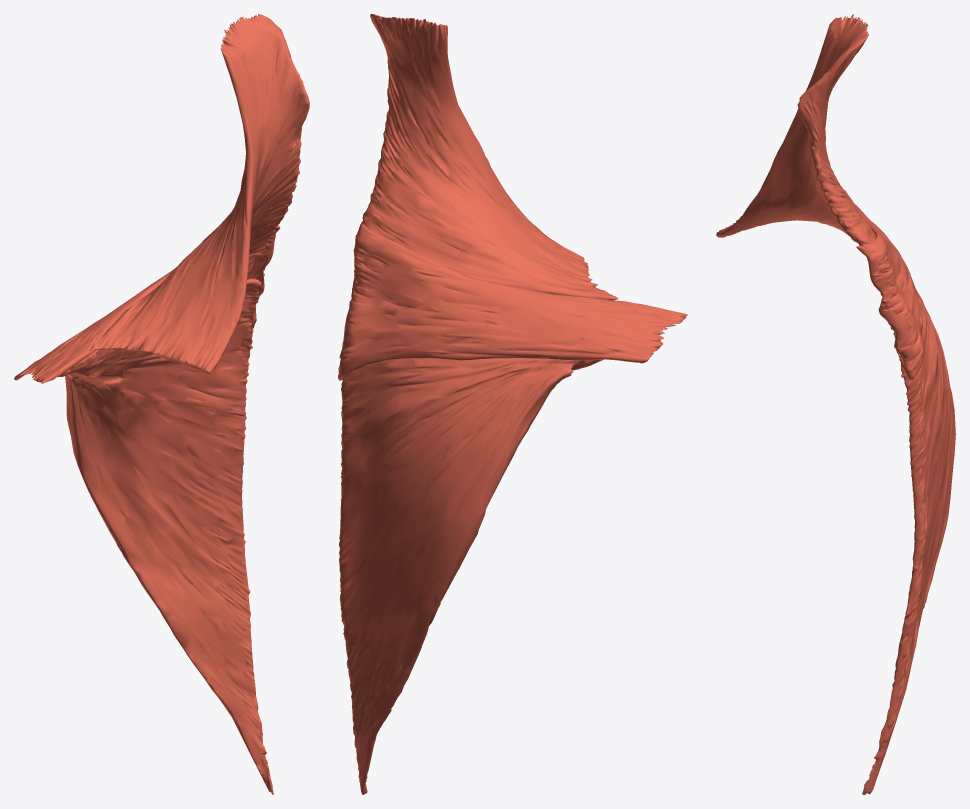
The model's file is trapezius.glb.
The picture shows the model from 3 angles, left to right: view 1: azimuth 30°, elevation 25°; view 2: azimuth 150°, elevation 25°; view 3: azimuth 270°, elevation 25°; orthographic projection. The views are drawn at different scales.
Parts seen in each view (by area): view 1: Descending part of trapezius muscle.r, Ascending part of trapezius muscle.r, Transverse part of trapezius muscle.r; view 2: Descending part of trapezius muscle.r, Ascending part of trapezius muscle.r, Transverse part of trapezius muscle.r; view 3: Descending part of trapezius muscle.r, Ascending part of trapezius muscle.r, Transverse part of trapezius muscle.r.
Part boxes in pixels (x1=…): Descending part of trapezius muscle.r: x1=57, y1=278, x2=273, y2=794; Ascending part of trapezius muscle.r: x1=89, y1=14, x2=309, y2=374; Transverse part of trapezius muscle.r: x1=14, y1=225, x2=280, y2=383; Descending part of trapezius muscle.r: x1=339, y1=358, x2=602, y2=794; Ascending part of trapezius muscle.r: x1=360, y1=14, x2=618, y2=300; Transverse part of trapezius muscle.r: x1=338, y1=224, x2=687, y2=380; Descending part of trapezius muscle.r: x1=862, y1=290, x2=955, y2=794; Ascending part of trapezius muscle.r: x1=716, y1=14, x2=875, y2=252; Transverse part of trapezius muscle.r: x1=854, y1=203, x2=922, y2=379.
Bounding box in the file's own units: 0.1724 × 0.4547 × 0.1306.
